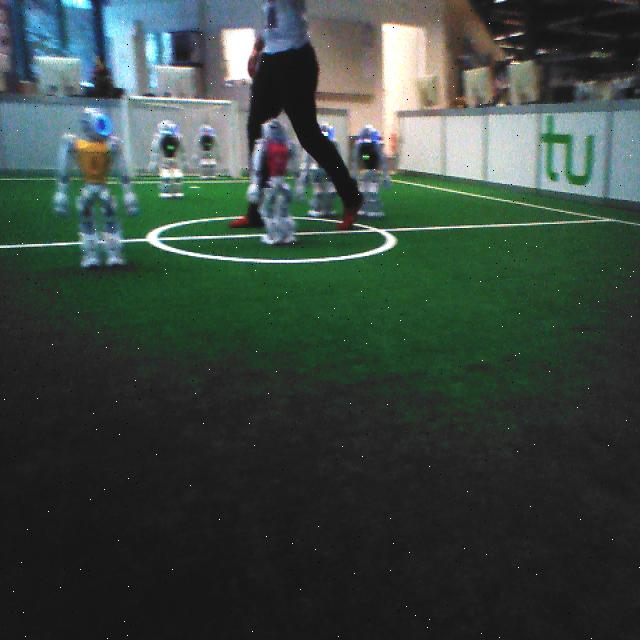goalpost: (120, 89, 137, 180), (231, 97, 242, 179)
